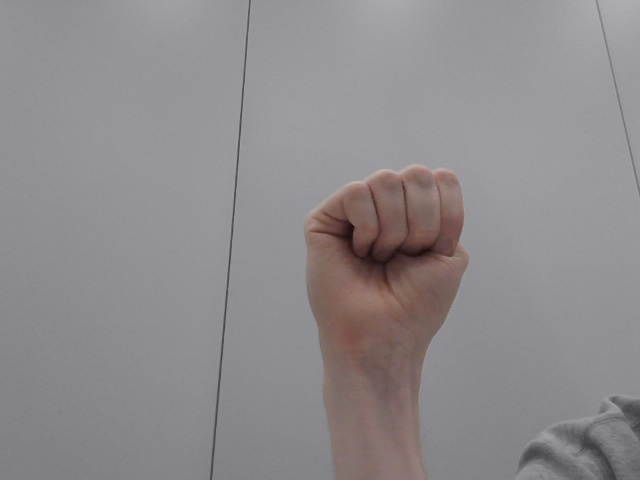down: (262, 141, 501, 407)
